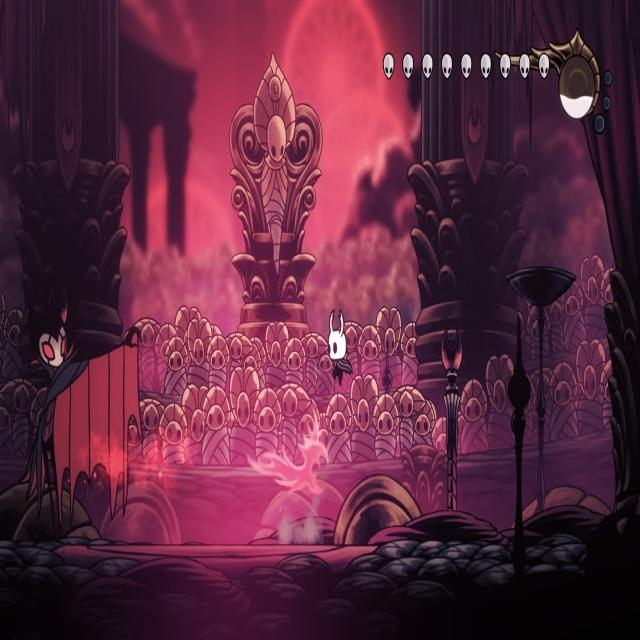Open Cloak: (15, 293, 150, 548)
Player: (325, 306, 353, 389)
